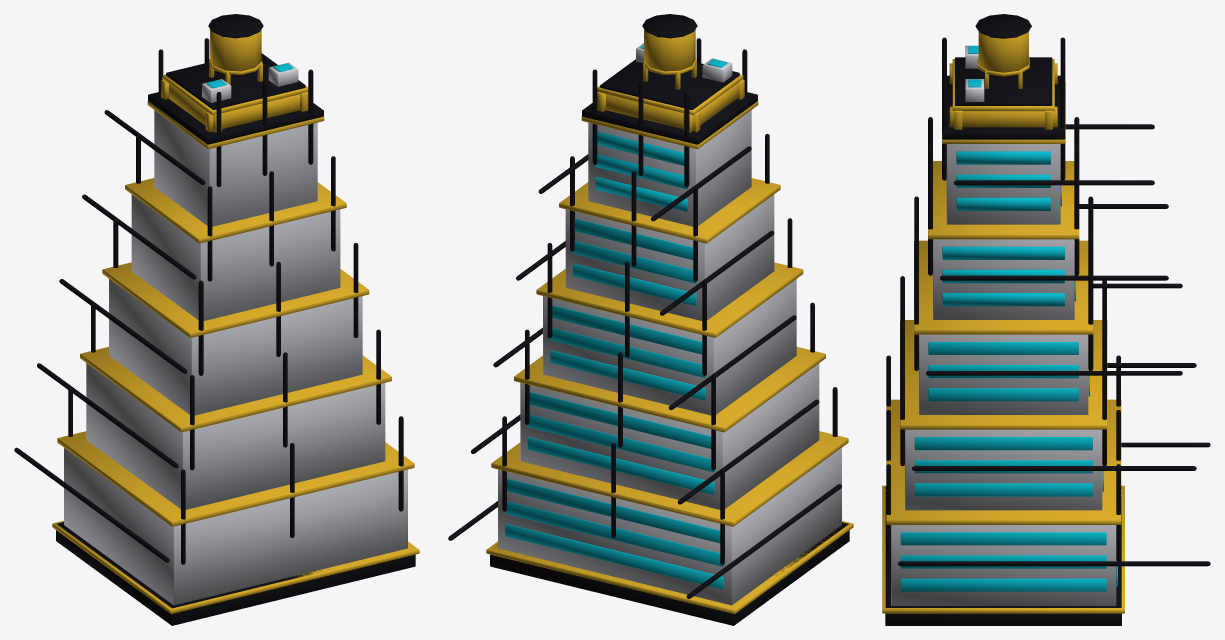
File: skyscraper_c.glb
3 views of the same model, side by side, from view 1: azimuth 30°, elevation 25°; view 2: azimuth 150°, elevation 25°; view 3: azimuth 270°, elevation 25° (orthographic). The views are drawn at different scales.
Visible parts, largest first — view 1: skyscraper_c; view 2: skyscraper_c; view 3: skyscraper_c.
Part boxes in pixels (x1=…): skyscraper_c: x1=14, y1=14, x2=419, y2=625; skyscraper_c: x1=448, y1=14, x2=853, y2=625; skyscraper_c: x1=882, y1=14, x2=1210, y2=625.
Size of the model in its own units: 12.65 by 25.63 by 14.13.
